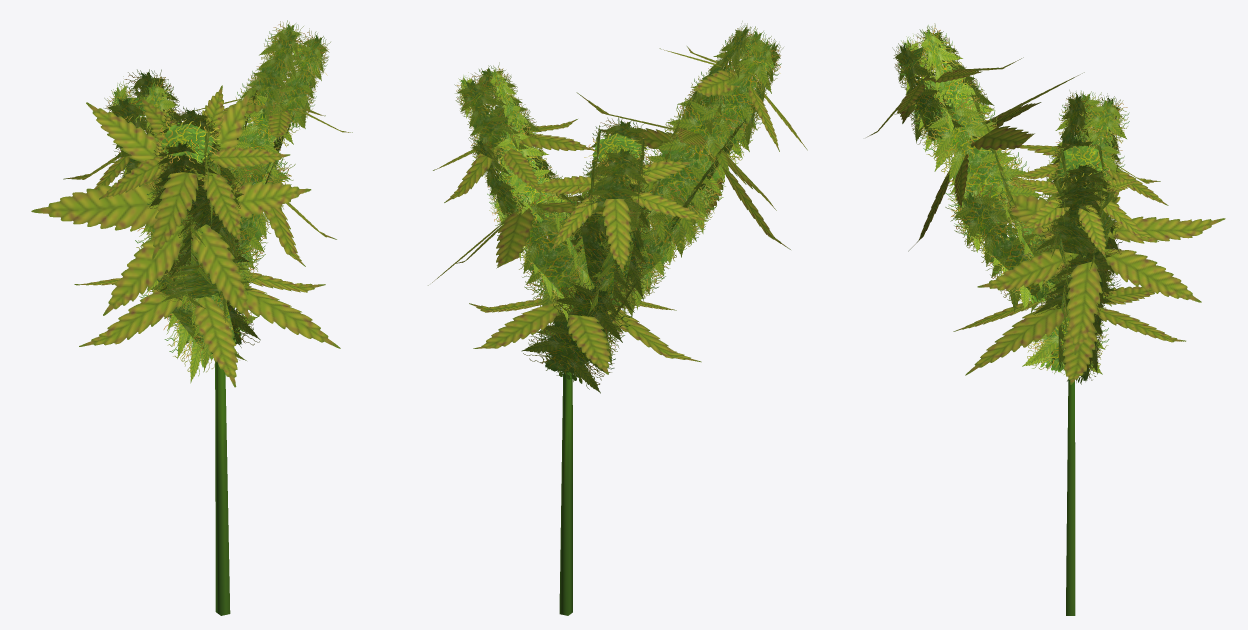
File: CannabisStage04_02.fbx
The picture shows the model from 3 angles, left to right: view 1: azimuth 30°, elevation 25°; view 2: azimuth 150°, elevation 25°; view 3: azimuth 270°, elevation 25°; orthographic projection. The views are drawn at different scales.
Parts seen in each view (by area): view 1: CannabisStage04_02_LOD0; view 2: CannabisStage04_02_LOD0; view 3: CannabisStage04_02_LOD0.
Boxes of the visible parts, box(x1,y1,x2,y2) form: CannabisStage04_02_LOD0: box(31, 20, 352, 615); CannabisStage04_02_LOD0: box(428, 21, 807, 615); CannabisStage04_02_LOD0: box(866, 23, 1225, 615).
Size of what is drawn, in the model's own units: 55.9 by 87.03 by 56.85.
